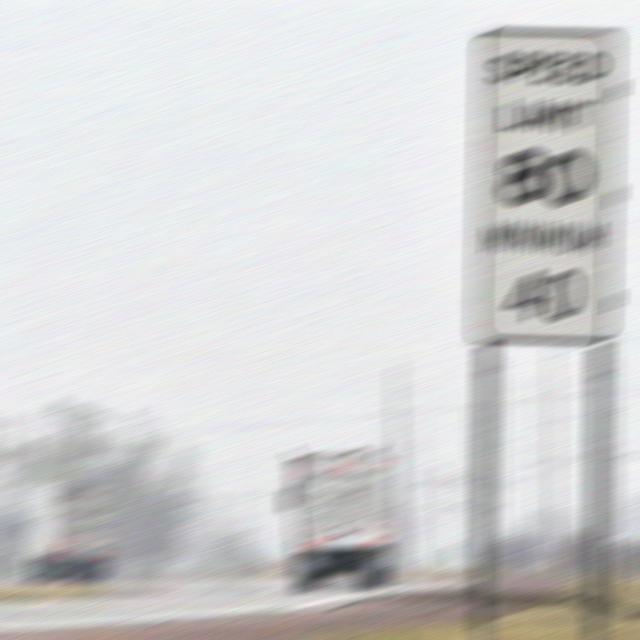speedLimit80: (482, 23, 608, 341)
